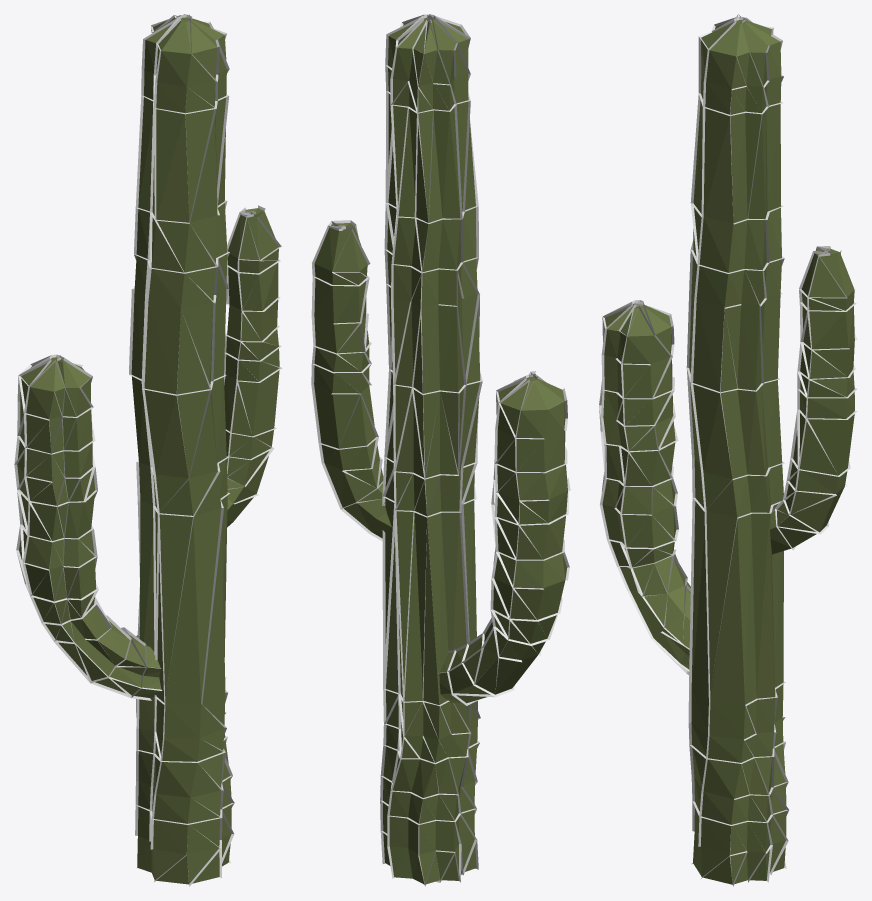
Rendered from Cactus-Green.glb.
3 renders of one model, left to right at view 1: azimuth 30°, elevation 25°; view 2: azimuth 150°, elevation 25°; view 3: azimuth 330°, elevation 25°, orthographic.
Parts seen in each view (by area): view 1: loftedSurface8; view 2: loftedSurface8; view 3: loftedSurface8.
Boxes of the visible parts, left/top/right/bottom form: loftedSurface8: left=14, top=14, right=282, bottom=886; loftedSurface8: left=311, top=14, right=570, bottom=886; loftedSurface8: left=599, top=14, right=857, bottom=886.
Bounding box in the file's own units: 416 × 1330 × 165.
